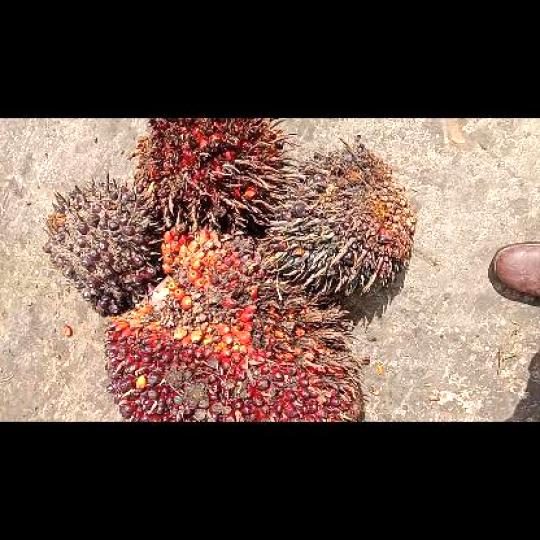kurang masak: (41, 174, 161, 314)
masak: (103, 228, 364, 421)
terlalu masak: (128, 118, 287, 230)
